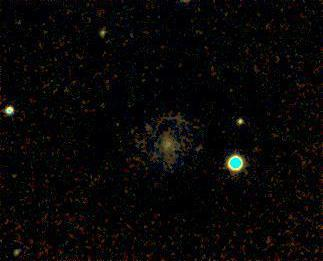star: (0, 157, 30, 187)
